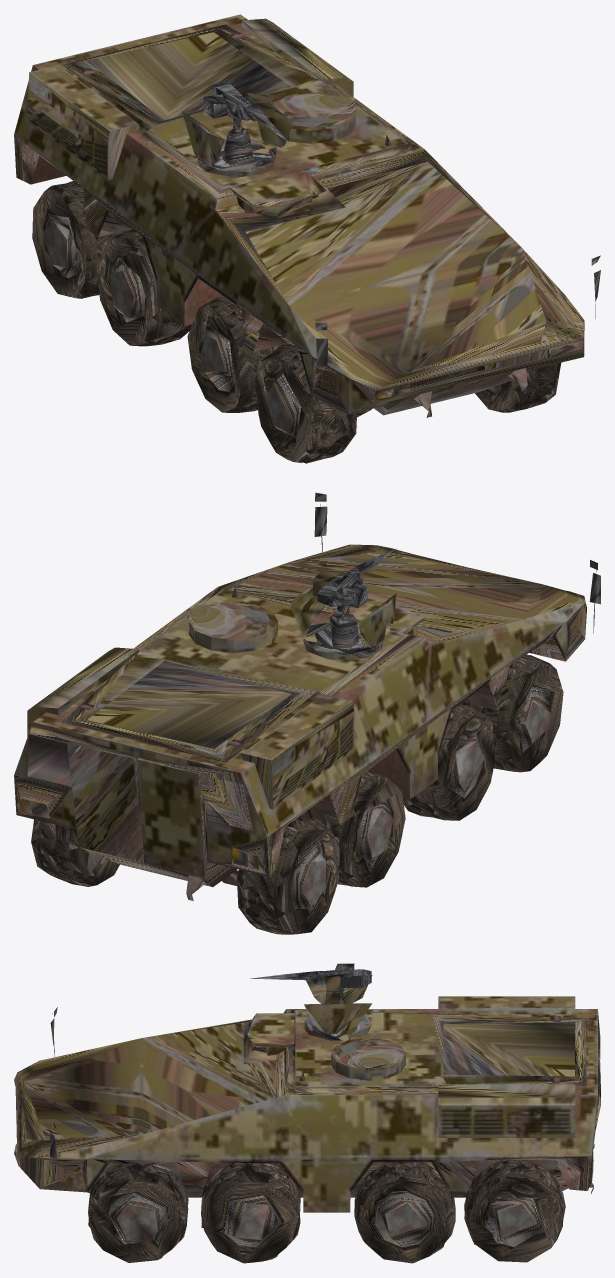
File: ifv.lod0.glb
The picture shows the model from 3 angles, top to bottom: view 1: azimuth 30°, elevation 25°; view 2: azimuth 150°, elevation 25°; view 3: azimuth 270°, elevation 25°; orthographic projection. The views are drawn at different scales.
Visible parts, largest first — view 1: ifv_vfertig_lambert1_0; view 2: ifv_vfertig_lambert1_0; view 3: ifv_vfertig_lambert1_0.
Part boxes in pixels (<box>): ifv_vfertig_lambert1_0: <box>14,14,600,463</box>; ifv_vfertig_lambert1_0: <box>14,492,600,934</box>; ifv_vfertig_lambert1_0: <box>14,963,600,1263</box>.
Bounding box in the file's own units: 3.32 × 2.91 × 7.
1 material, 1 textured.
